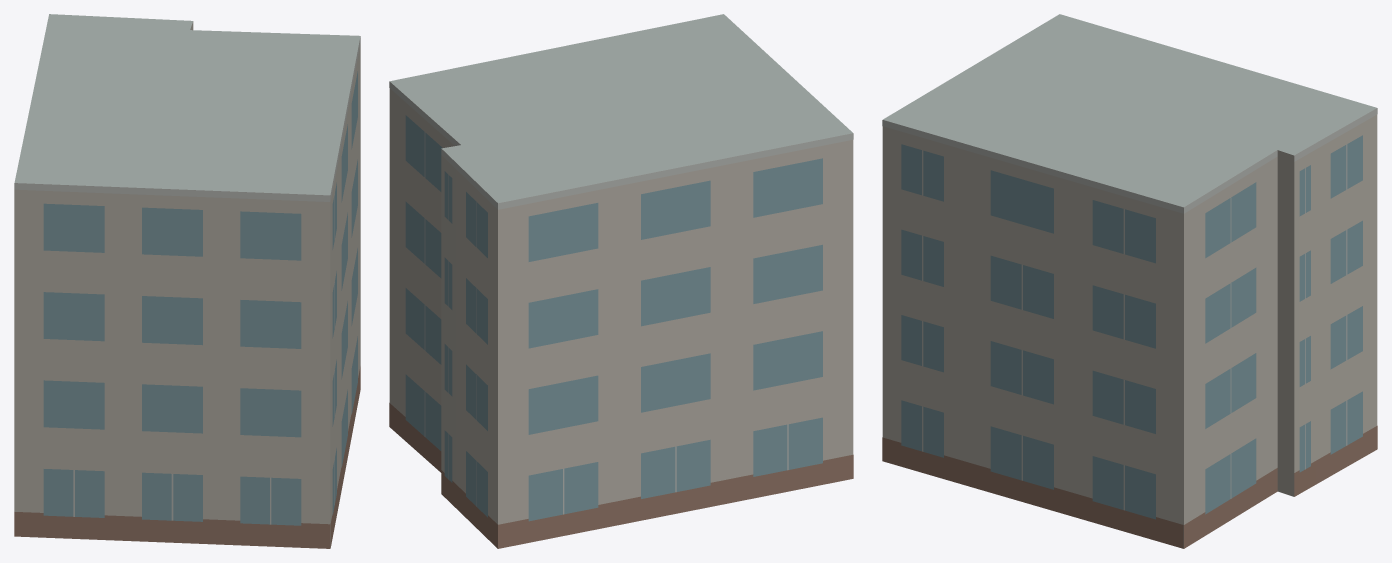
The model's file is survey-upis-32509340.glb.
3 renders of one model, left to right at view 1: azimuth 30°, elevation 25°; view 2: azimuth 150°, elevation 25°; view 3: azimuth 270°, elevation 25°, orthographic. The views are drawn at different scales.
Visible parts, largest first — view 1: survey-upis-32509340.tmp; view 2: survey-upis-32509340.tmp; view 3: survey-upis-32509340.tmp.
Boxes of the visible parts, x1,y1,x2,y2 form: survey-upis-32509340.tmp: (14, 14, 360, 548); survey-upis-32509340.tmp: (389, 14, 853, 548); survey-upis-32509340.tmp: (882, 14, 1377, 548).
Bounding box in the file's own units: 15.74 × 12.95 × 17.02.
